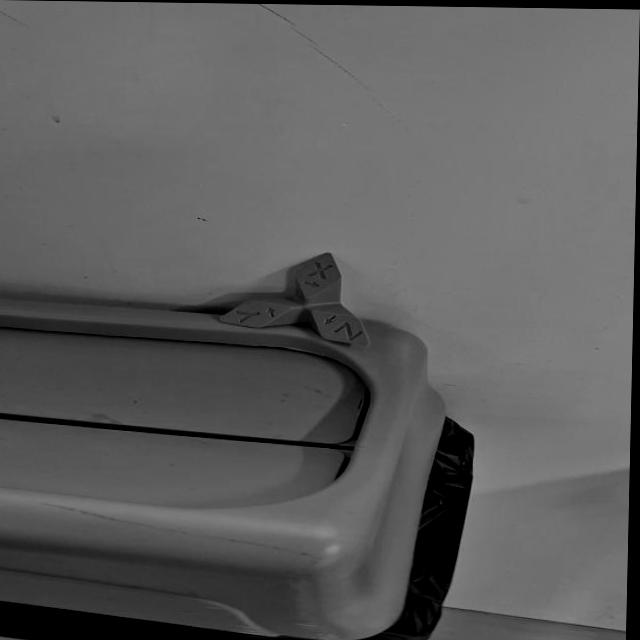eje: (214, 250, 375, 349)
